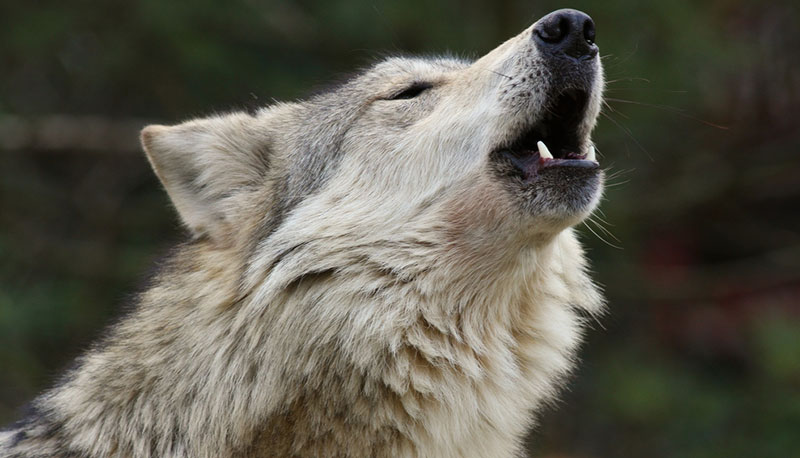Lobo: (64, 1, 622, 443)
